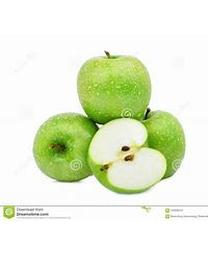apple: (87, 118, 166, 195), (76, 49, 152, 123), (32, 112, 100, 181), (132, 108, 185, 180)
